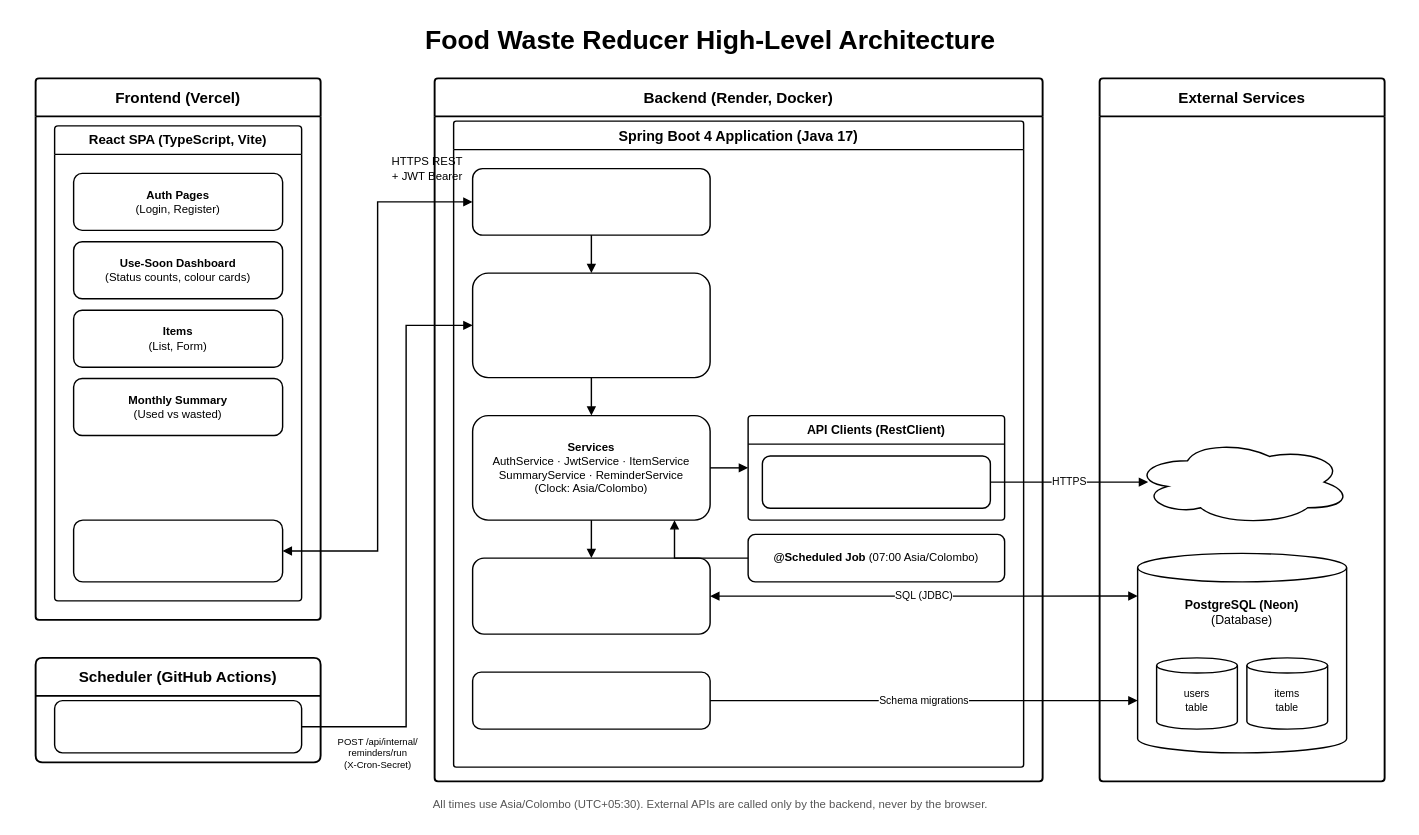
The diagram is 1419 pixels wide and 835 high, and some of its shapes have lost their labels. Each missing label, with the centre of its shape:
"API Client (TanStack Query, fetch + JWT)" goes at point 177,550.
"Brevo Email API (Email delivery)" goes at point 1242,481.
"BrevoEmailClient (Reminder emails)" goes at point 876,482.
"Daily Reminder Workflow (07:00 Asia/Colombo)" goes at point 177,726.
"Flyway Migrations (V1__init.sql, V2__…)" goes at point 590,700.
"Repositories (Spring Data JPA) UserRepository · ItemRepository" goes at point 590,595.
"REST Controllers Auth · Items · Summary Settings · Reminder trigger" goes at point 590,325.
"Spring Security Filter Chain (JWT verify, CORS)" goes at point 590,201.
